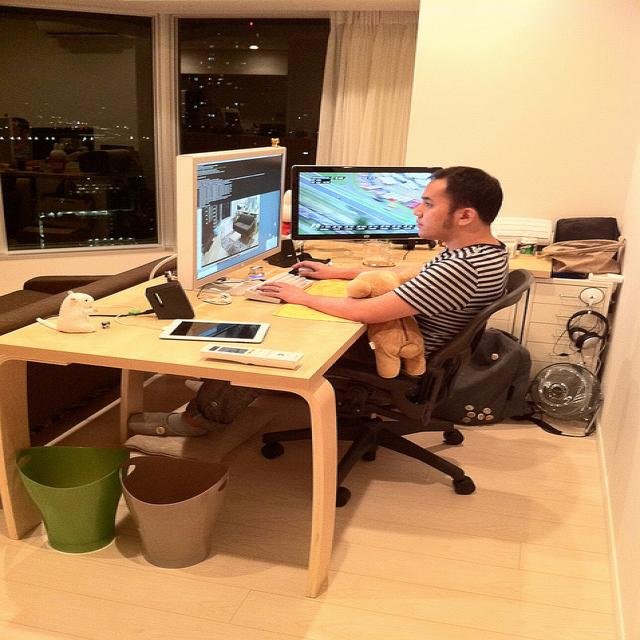chair: (337, 281, 536, 497)
dining table: (0, 296, 378, 600)
